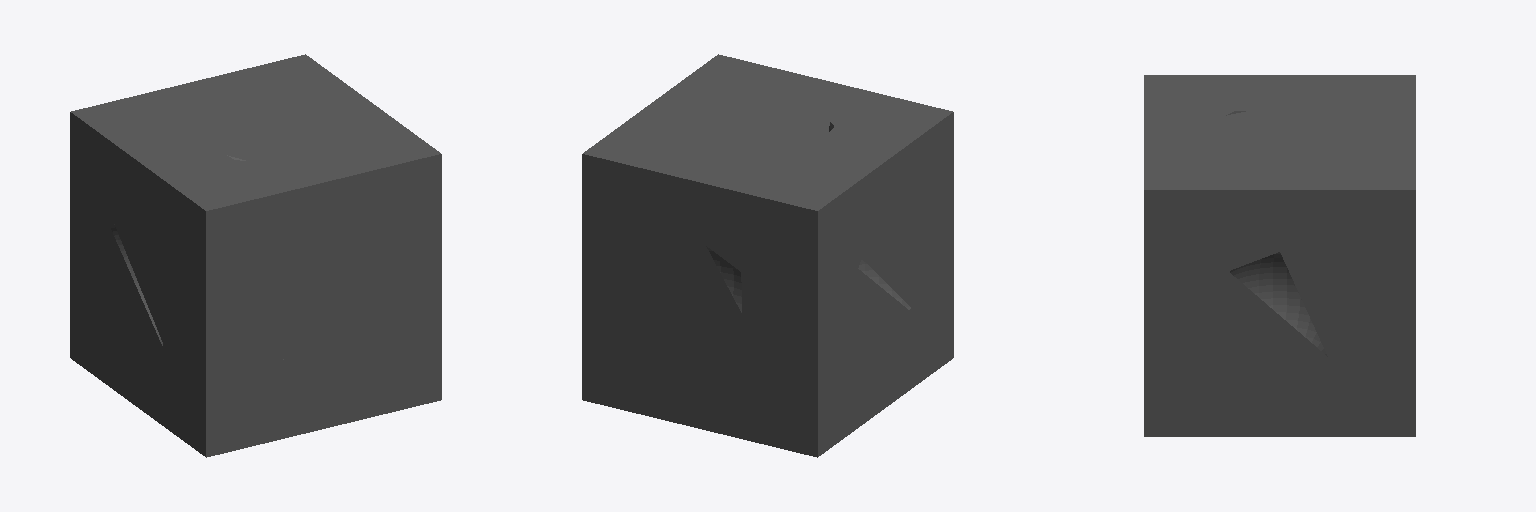
The model's file is pipeJoin.obj.
3 views of the same model, side by side, from view 1: azimuth 30°, elevation 25°; view 2: azimuth 150°, elevation 25°; view 3: azimuth 270°, elevation 25° (orthographic).
Visible parts, largest first — view 1: Cube_Cube.001; view 2: Cube_Cube.001; view 3: Cube_Cube.001.
Part boxes in pixels (x1,y1,x2,y2): Cube_Cube.001: (70,54,441,457); Cube_Cube.001: (582,54,953,457); Cube_Cube.001: (1144,75,1415,436).
Size of the model in its own units: 4 by 4 by 4.